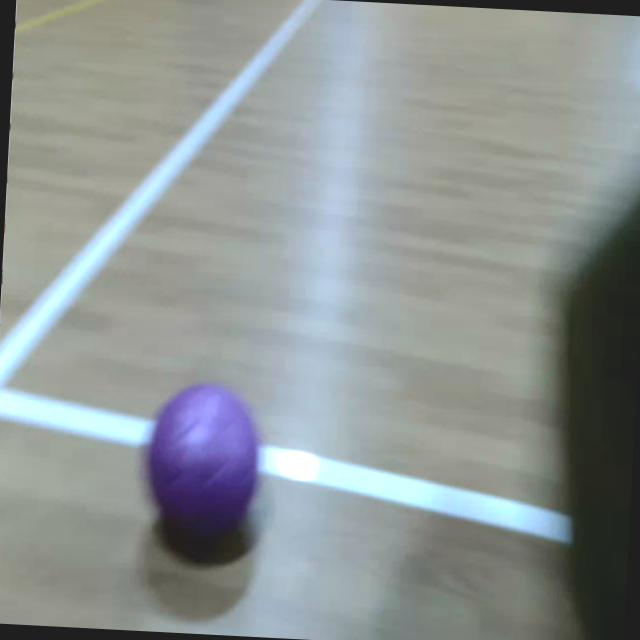purple_ball: (142, 379, 266, 540)
